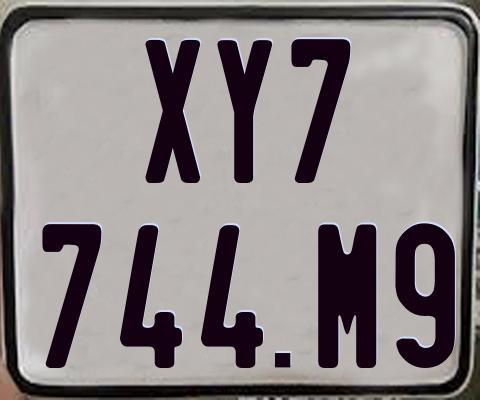4: (119, 222, 186, 368), (199, 223, 263, 368)
7: (41, 224, 104, 370), (291, 39, 353, 186)
9: (394, 220, 459, 365)
M: (318, 224, 381, 371)
X: (143, 40, 203, 185)
Y: (214, 37, 274, 186)
